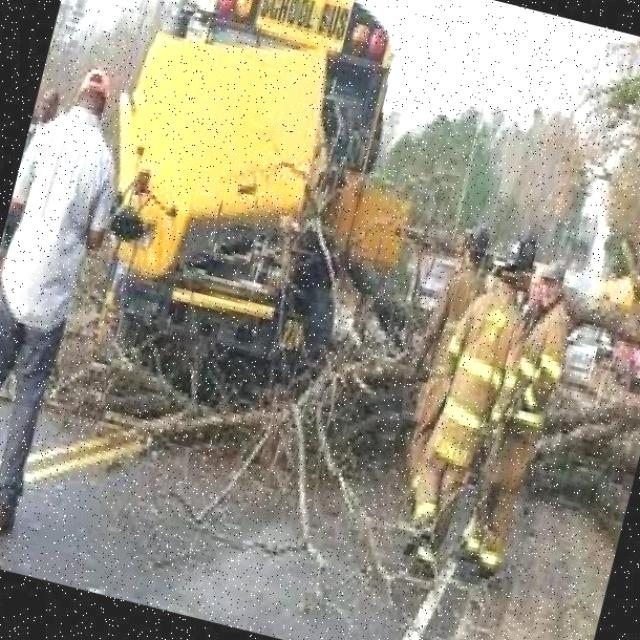fallen_object: (187, 138, 640, 507)
